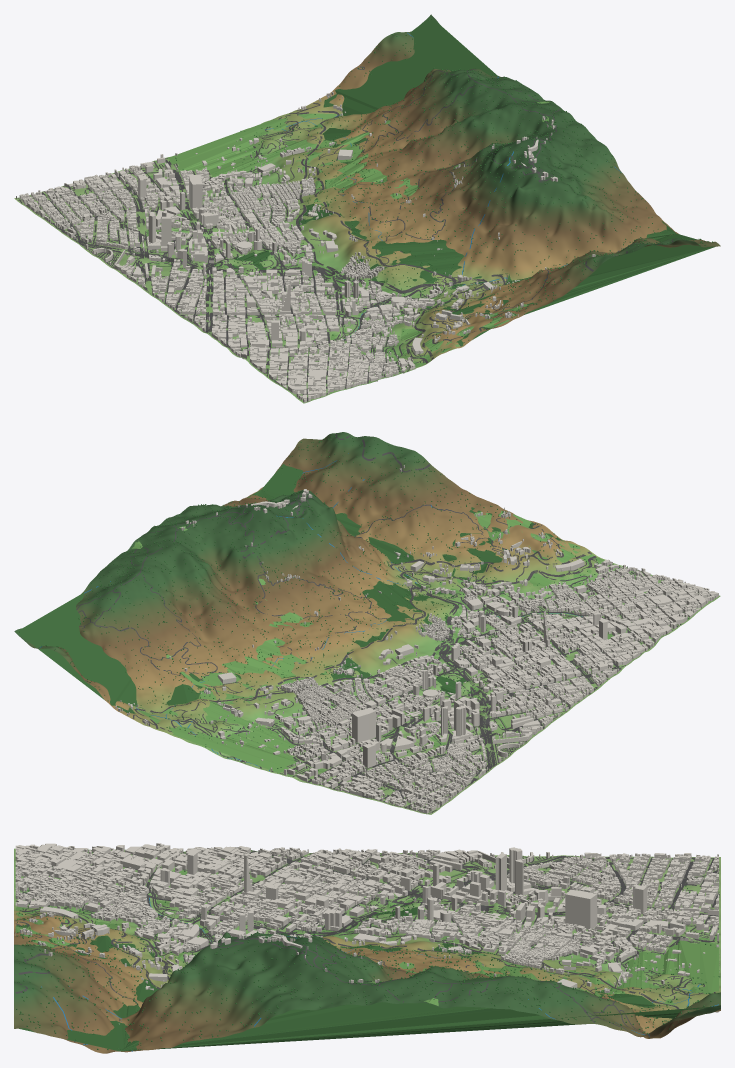
File: bogota_completo.glb
The picture shows the model from 3 angles, top to bottom: view 1: azimuth 30°, elevation 25°; view 2: azimuth 150°, elevation 25°; view 3: azimuth 270°, elevation 25°; orthographic projection. The views are drawn at different scales.
Visible parts, largest first — view 1: Terreno, Edificios_01, Edificios_02, Bosques, Vias, Edificios_03, Parques, Edificios_04, Edificios_05; view 2: Terreno, Edificios_01, Edificios_02, Vias, Edificios_03, Bosques, Parques, Edificios_04, Edificios_05; view 3: Terreno, Edificios_01, Edificios_02, Bosques, Edificios_03, Vias, Parques, Edificios_04, Edificios_05.
Part boxes in pixels (x1,y1,x2,y2): Terreno: (14,14,720,403); Edificios_01: (16,178,367,402); Edificios_02: (84,161,423,381); Bosques: (232,17,715,381); Vias: (18,66,674,401); Edificios_03: (157,145,509,342); Parques: (46,101,552,374); Edificios_04: (236,138,523,317); Edificios_05: (298,91,595,269); Terreno: (14,432,720,814); Edificios_01: (362,574,718,813); Edificios_02: (296,559,650,796); Vias: (76,433,701,813); Edificios_03: (235,512,561,775); Bosques: (16,464,688,713); Parques: (132,511,645,804); Edificios_04: (200,507,509,744); Edificios_05: (115,465,404,725); Terreno: (14,848,720,1053); Edificios_01: (15,843,718,898); Edificios_02: (15,855,718,936); Bosques: (16,851,718,1051); Edificios_03: (21,911,718,972); Vias: (15,850,719,1041); Parques: (15,863,718,1005); Edificios_04: (15,929,699,993); Edificios_05: (44,933,718,1012).
Size of the model in its own units: 2791 by 652 by 3357.
